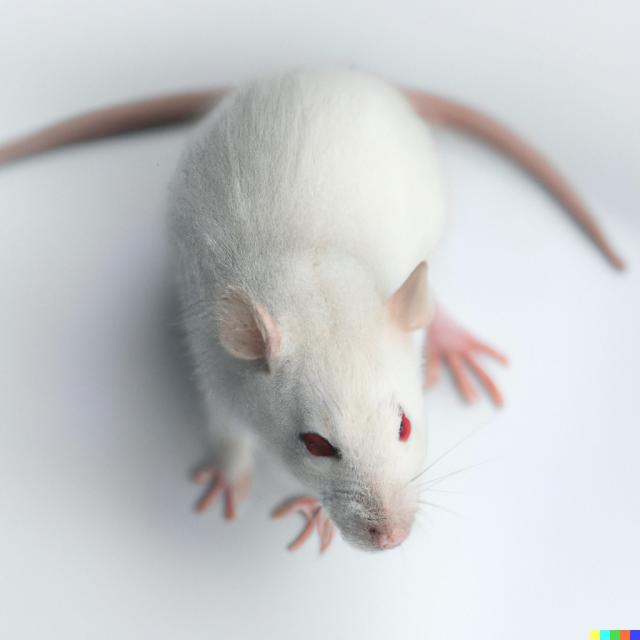rodents: (149, 57, 536, 576)
